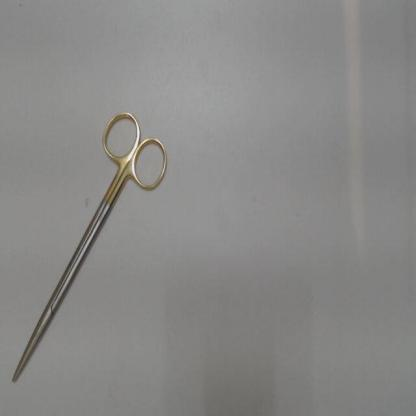7 Metzenbaum Scissors: (13, 109, 169, 384)
